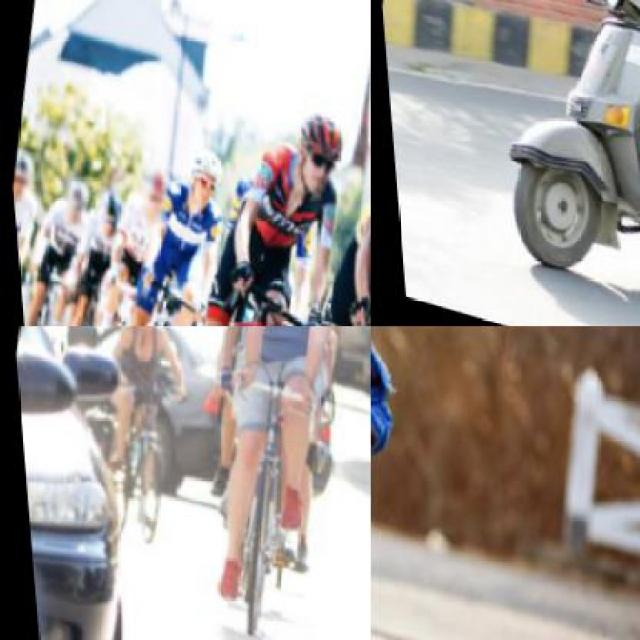With Helmet: (276, 90, 352, 210), (172, 132, 226, 211), (79, 176, 130, 244), (126, 157, 171, 225), (51, 169, 89, 225), (5, 146, 38, 209)
